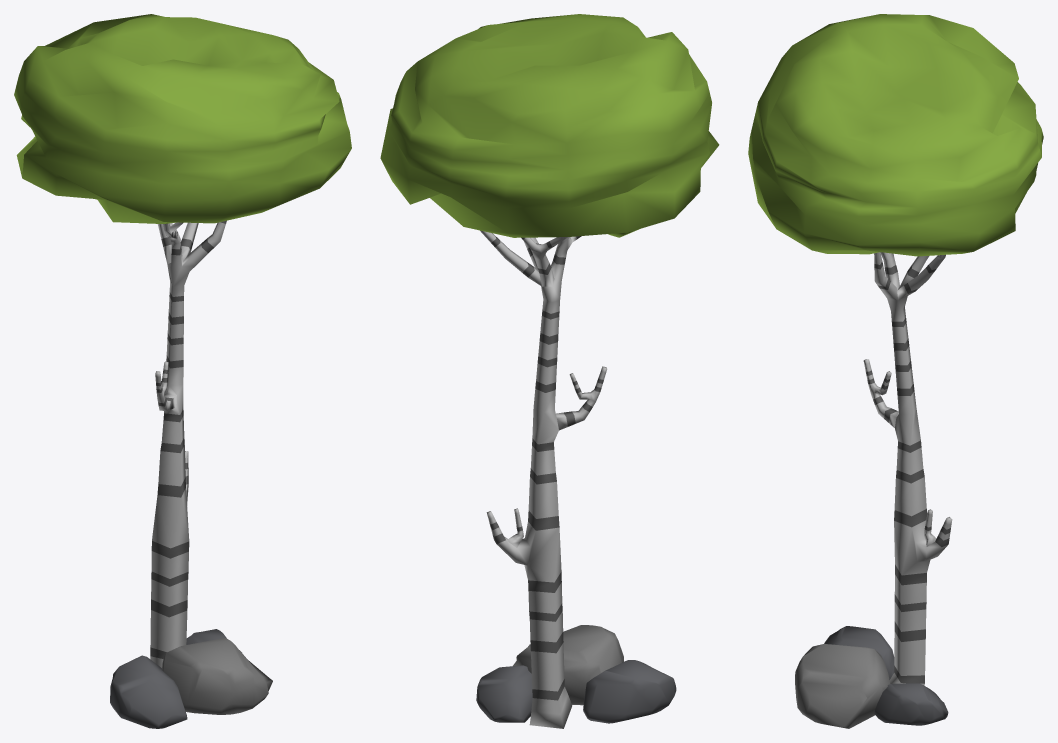
The model's file is tree_05.glb.
The picture shows the model from 3 angles, left to right: view 1: azimuth 30°, elevation 25°; view 2: azimuth 150°, elevation 25°; view 3: azimuth 270°, elevation 25°; orthographic projection. The views are drawn at different scales.
Visible parts, largest first — view 1: tree_05; view 2: tree_05; view 3: tree_05.
Part boxes in pixels (<box>): tree_05: <box>14,14,351,728</box>; tree_05: <box>380,14,719,728</box>; tree_05: <box>748,14,1043,728</box>.
Bounding box in the file's own units: 3.15 × 6.81 × 2.8.
1 material, 1 textured.
